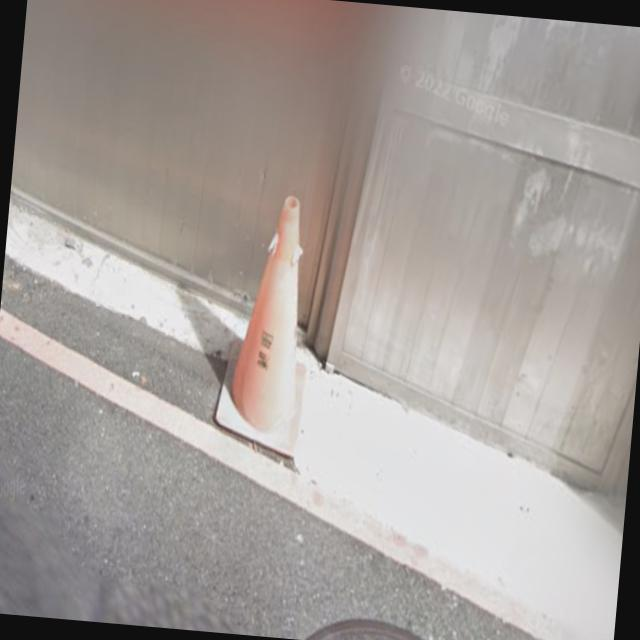cone: (204, 164, 336, 478)
